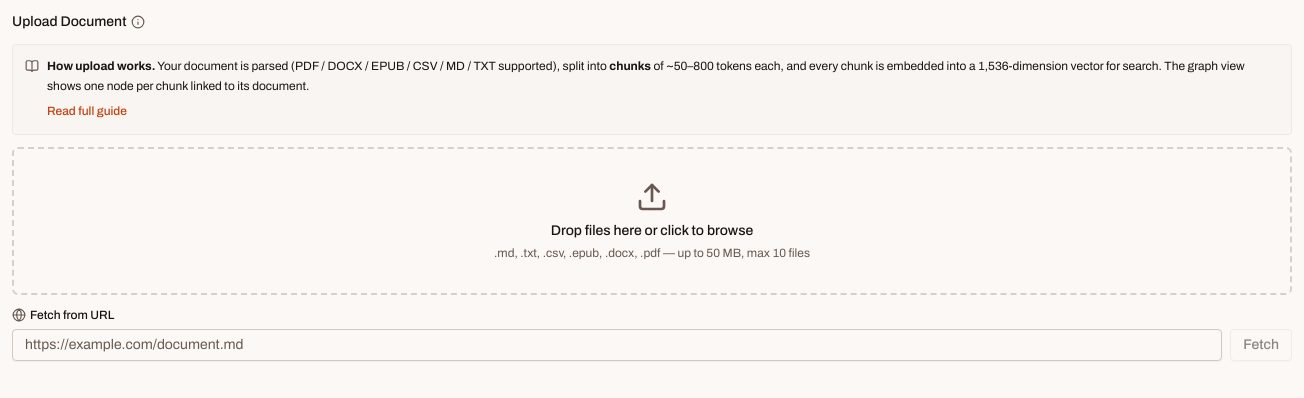
Test: DocumentUploadZone › shows error when URL fetch fails with a server error message
The width and height of the screenshot is (1304, 398).
In the field with placeholder "https://example.com/document.md": (617, 344) left=12, top=328, right=1222, bottom=360, type "https://bad-url.example.com/doc.md"
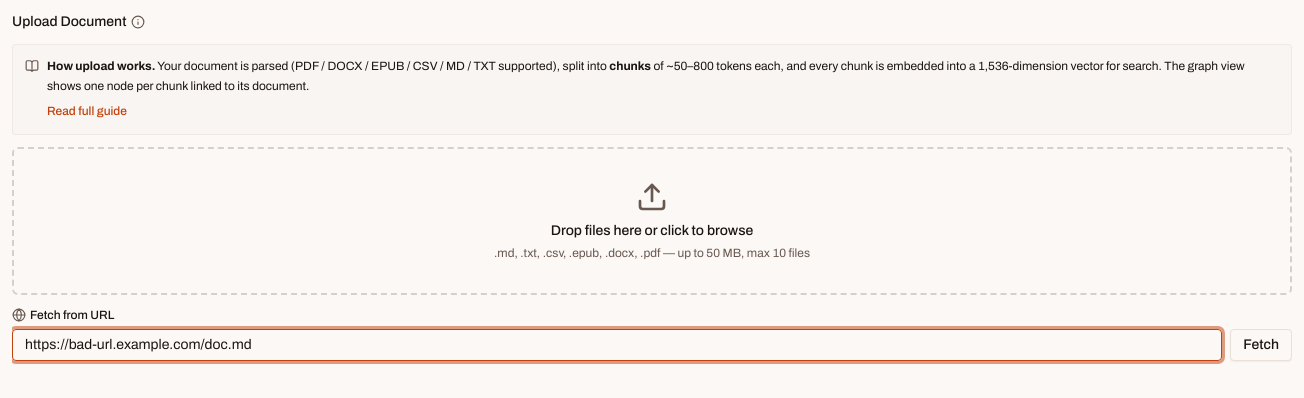
Click the button "Fetch": click(1261, 344) left=1230, top=328, right=1292, bottom=360
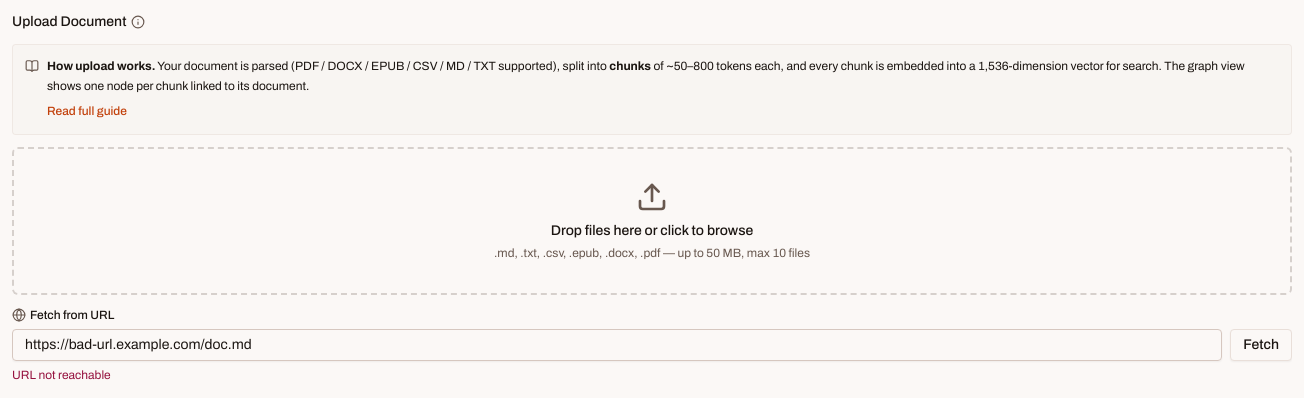
Now the text "URL not reachable" is shown, box left=12, top=368, right=111, bottom=382
